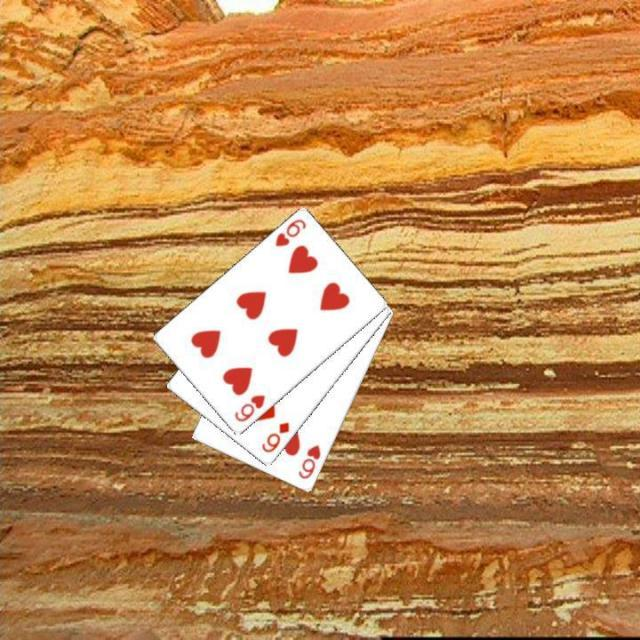6D: (258, 418, 292, 456)
6H: (271, 215, 309, 249), (230, 391, 266, 424), (294, 441, 323, 481)
